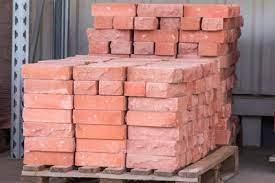Bricks: (24, 78, 73, 95), (21, 64, 70, 80), (24, 139, 74, 154), (24, 107, 70, 123), (76, 125, 125, 140), (130, 97, 185, 110), (23, 153, 74, 167), (128, 143, 179, 157), (132, 156, 182, 170), (24, 95, 71, 109), (76, 110, 123, 124), (75, 155, 125, 168), (74, 69, 128, 81), (23, 124, 72, 137), (75, 140, 124, 153), (127, 113, 180, 125), (94, 5, 136, 20), (129, 129, 180, 140), (75, 96, 124, 107), (131, 70, 180, 81), (141, 4, 180, 17), (183, 4, 229, 15), (148, 83, 184, 97), (90, 30, 132, 41), (135, 32, 176, 43), (181, 31, 224, 41), (125, 82, 145, 96), (199, 20, 222, 31), (133, 42, 152, 55), (100, 84, 123, 94), (73, 85, 98, 94), (92, 19, 114, 29), (156, 44, 176, 55), (114, 42, 132, 54), (115, 18, 133, 29), (90, 41, 106, 53), (160, 18, 179, 28), (202, 45, 220, 55), (180, 19, 197, 28), (137, 18, 156, 26), (179, 44, 194, 54)
